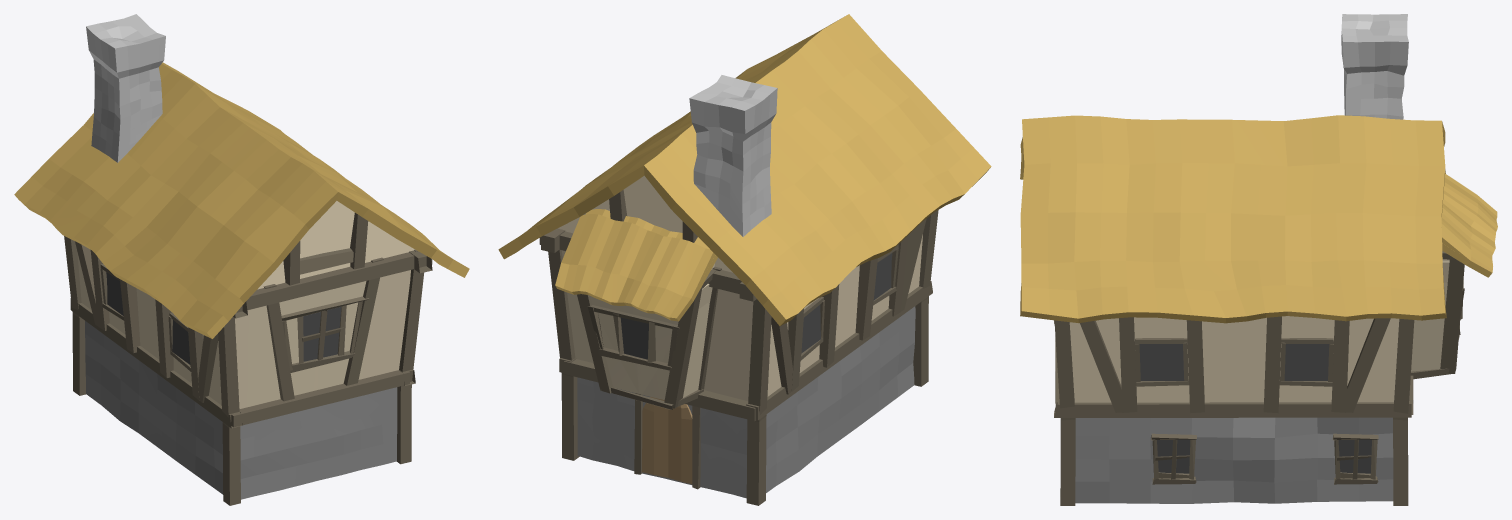
File: petite_maison2.fbx
The picture shows the model from 3 angles, left to right: view 1: azimuth 30°, elevation 25°; view 2: azimuth 150°, elevation 25°; view 3: azimuth 270°, elevation 25°; orthographic projection. The views are drawn at different scales.
Parts seen in each view (by area): view 1: Plan.008; view 2: Plan.008; view 3: Plan.008.
Boxes of the visible parts, bbox=[...] form: Plan.008: bbox=[14, 14, 469, 505]; Plan.008: bbox=[498, 14, 991, 505]; Plan.008: bbox=[1020, 14, 1497, 505].
Size of the model in its own units: 730 by 934 by 1008.
